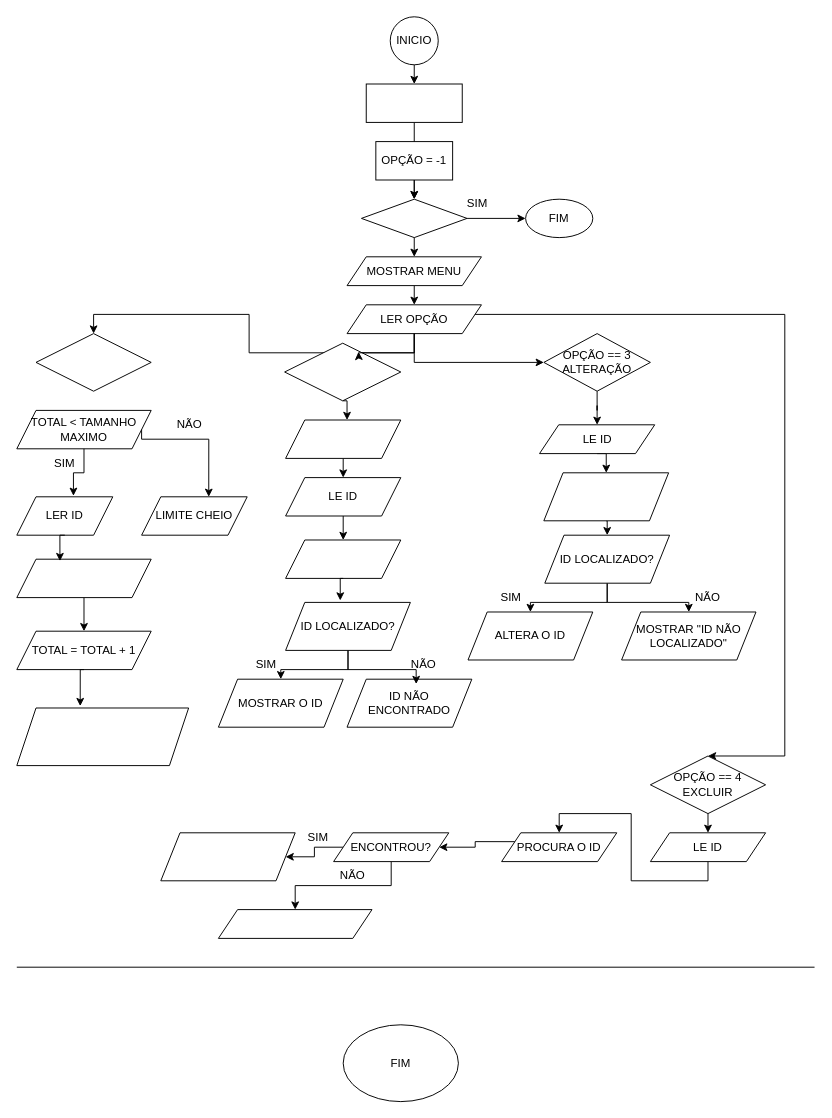
Some shapes in this 832 by 1118 pixel diagram are drawn without their labels. The centre of each missing label's shape, as x and y in pixels:
CONSULTA: [343,438]
DESLOCA PARA ESQUERDA DE TOTAL: [227,856]
MOSTRAR "CADASTRO REALIZADO: [102,736]
MOSTRAR "ID NÃO ENCONTRADO": [294,923]
OPÇÃO == 0: [413,218]
OPÇÃO == 1 CADASTRO: [93,362]
OPÇÃO == 2 CONSULTAR: [342,371]
PROCURA NO VETOR: [343,558]
PROCURAR ID NO VETOR: [606,496]
SALVAR NO ARRAY: [83,578]
TOTAL = 0: [413,102]
